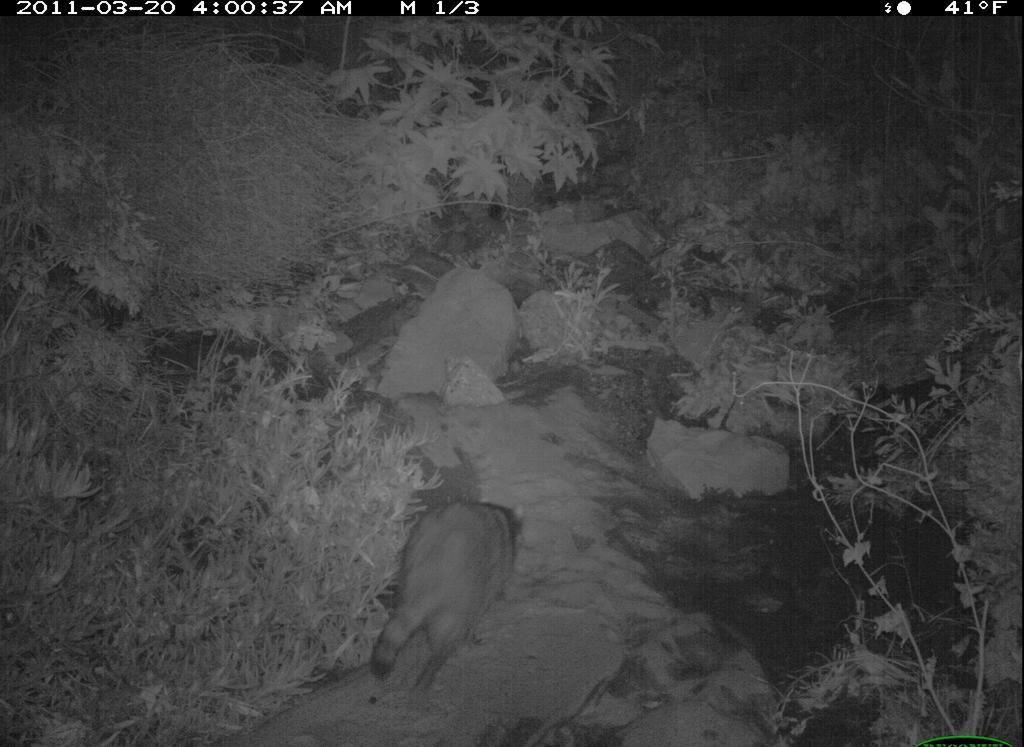raccoon: (368, 481, 530, 706)
